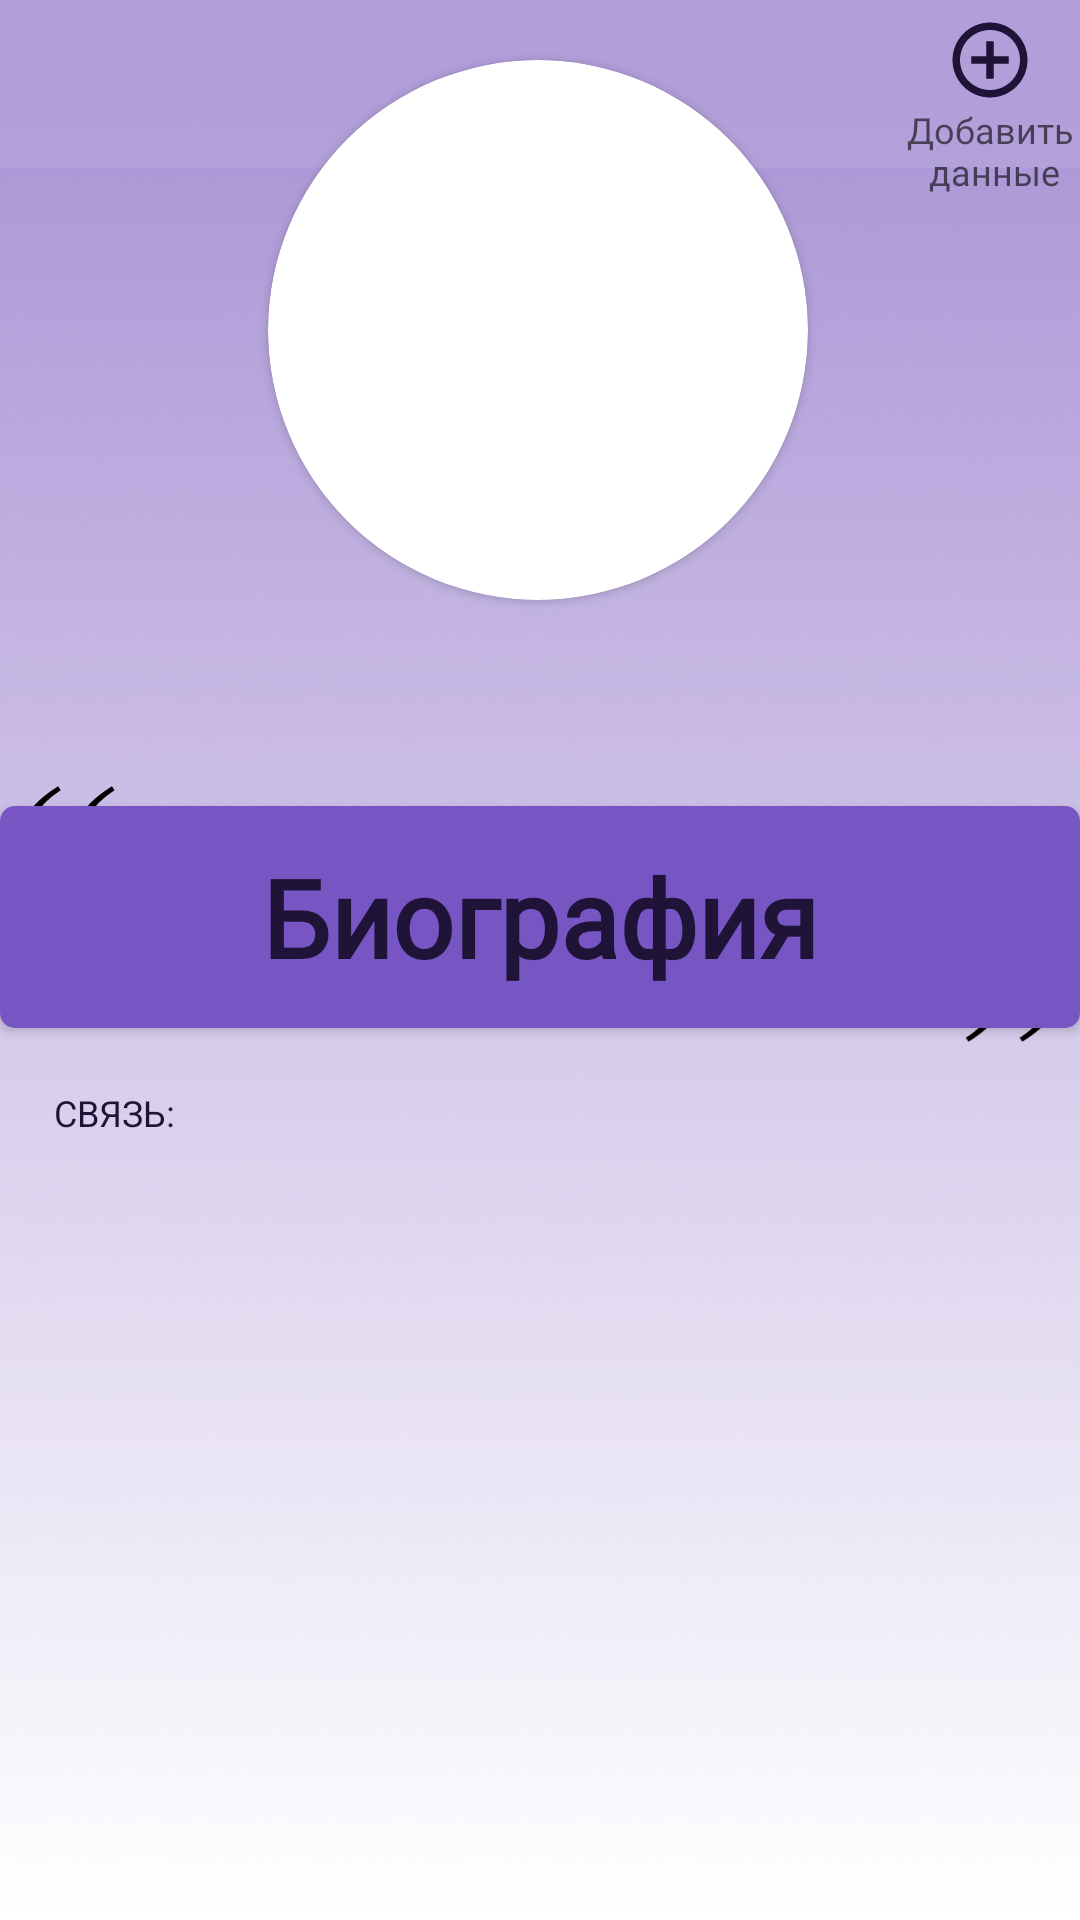

Named icons in this screenshot (1080w x 1920h) and their centers, [x,y]:
add circle: [990,60]
